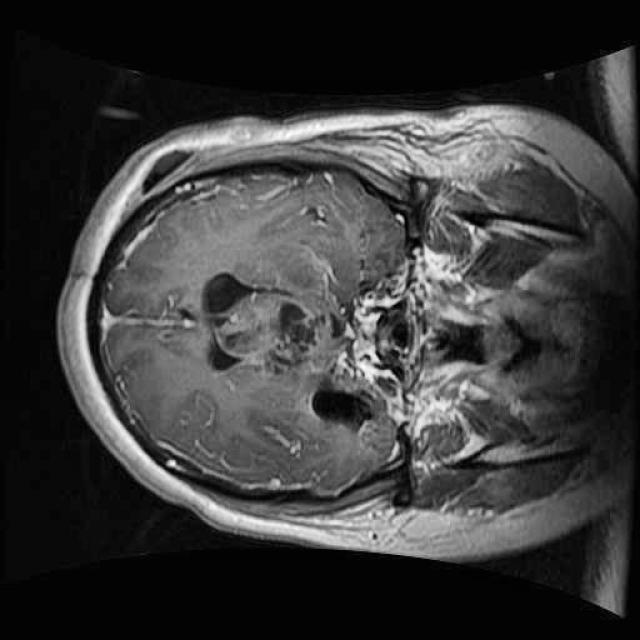Tumor: (202, 274, 414, 470)
